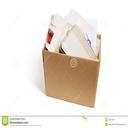cardboard: (41, 32, 101, 107), (63, 8, 97, 50), (60, 24, 97, 58), (43, 13, 69, 51), (87, 16, 97, 30)
